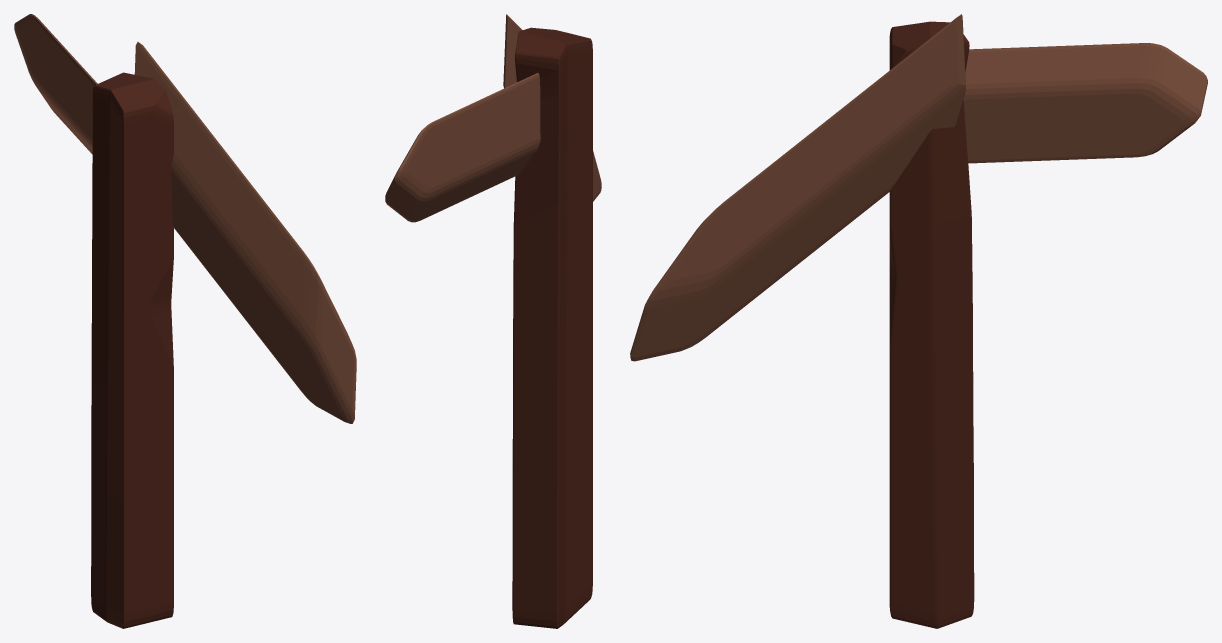
File: BabySign.fbx
3 renders of one model, left to right at view 1: azimuth 30°, elevation 25°; view 2: azimuth 150°, elevation 25°; view 3: azimuth 270°, elevation 25°, orthographic. The views are drawn at different scales.
Parts seen in each view (by area): view 1: Short beam, sign.001, sign; view 2: Short beam, sign, sign.001; view 3: Short beam, sign.001, sign.
Boxes of the visible parts, <box> form: Short beam: <box>91,72,173,628</box>; sign.001: <box>134,42,356,423</box>; sign: <box>14,14,97,154</box>; Short beam: <box>512,27,592,628</box>; sign: <box>385,73,540,222</box>; sign.001: <box>503,14,601,201</box>; Short beam: <box>889,21,974,628</box>; sign.001: <box>630,14,965,361</box>; sign: <box>963,43,1207,163</box>.
Size of the model in its own units: 0.033 by 0.00877 by 0.0387.
